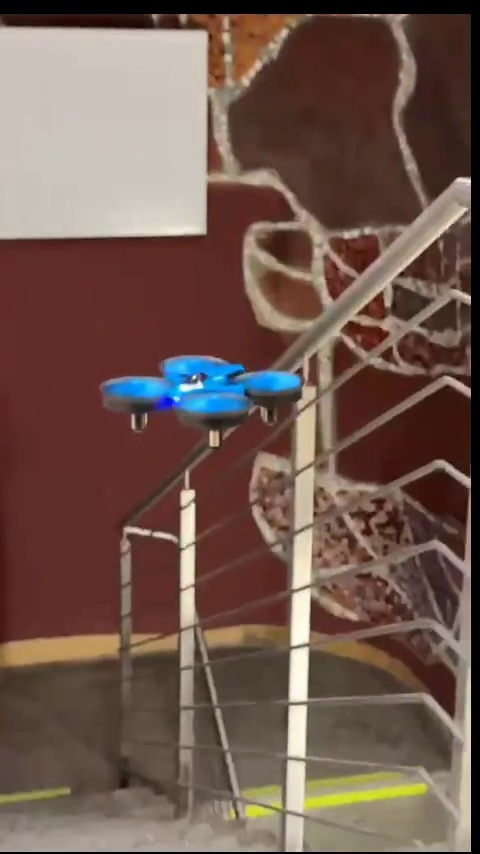drone: (106, 352, 299, 455)
